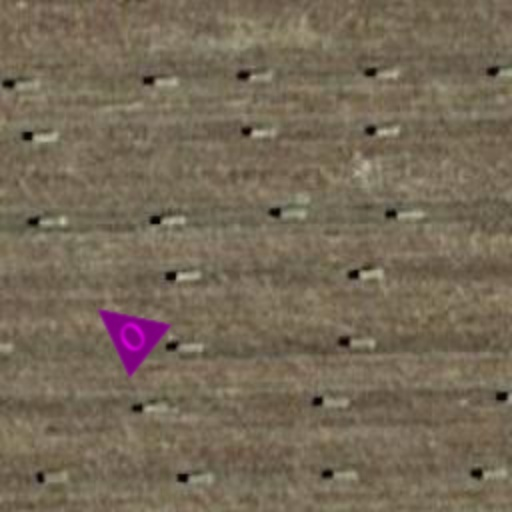triangle: (74, 280, 174, 380)
